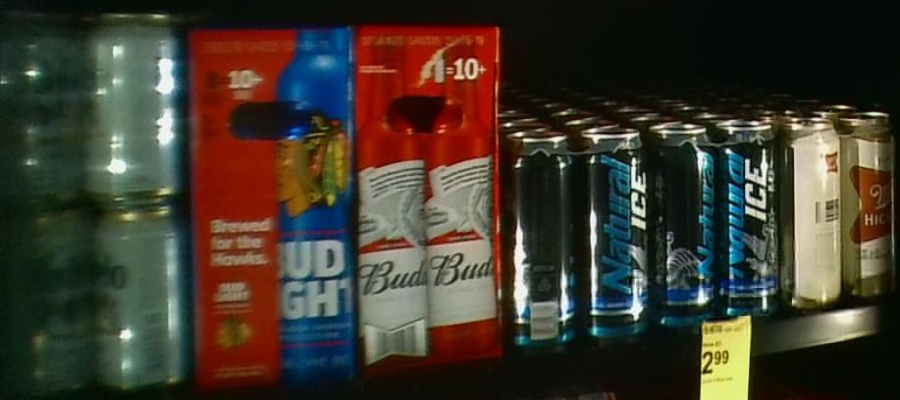bottle: (1, 7, 188, 390), (187, 22, 354, 393), (354, 19, 500, 363), (504, 135, 652, 345), (651, 128, 782, 330), (777, 117, 898, 313)
